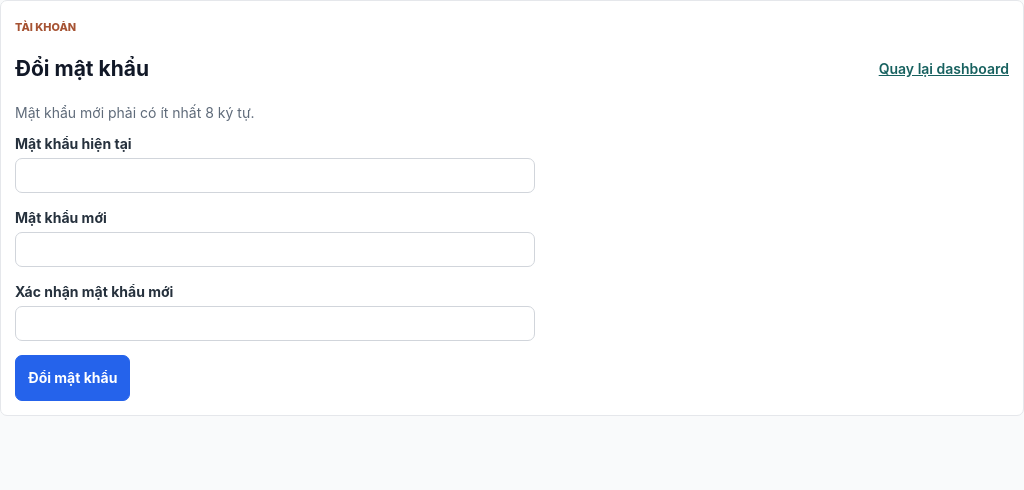
Test case: ChangePasswordPage › shows backend error message
Type "wrong-password" into the password field labelled "Mật khẩu hiện tại".
click(275, 175); type("wrong-password")  # box left=15, top=158, right=535, bottom=193
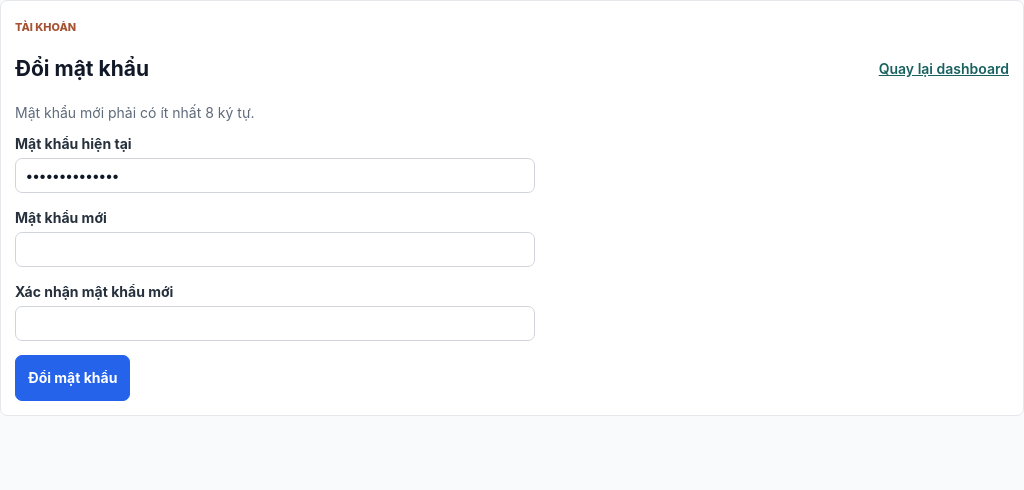
Type "new-password-1" into the password field labelled "Mật khẩu mới".
click(275, 249); type("new-password-1")  # box left=15, top=232, right=535, bottom=267
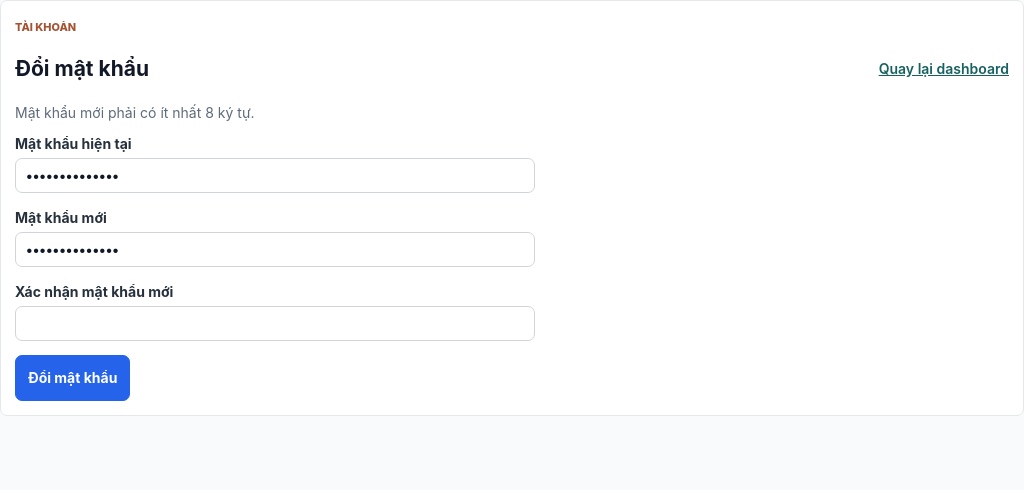
Type "new-password-1" into the password field labelled "Xác nhận mật khẩu mới".
click(275, 323); type("new-password-1")  # box left=15, top=306, right=535, bottom=341
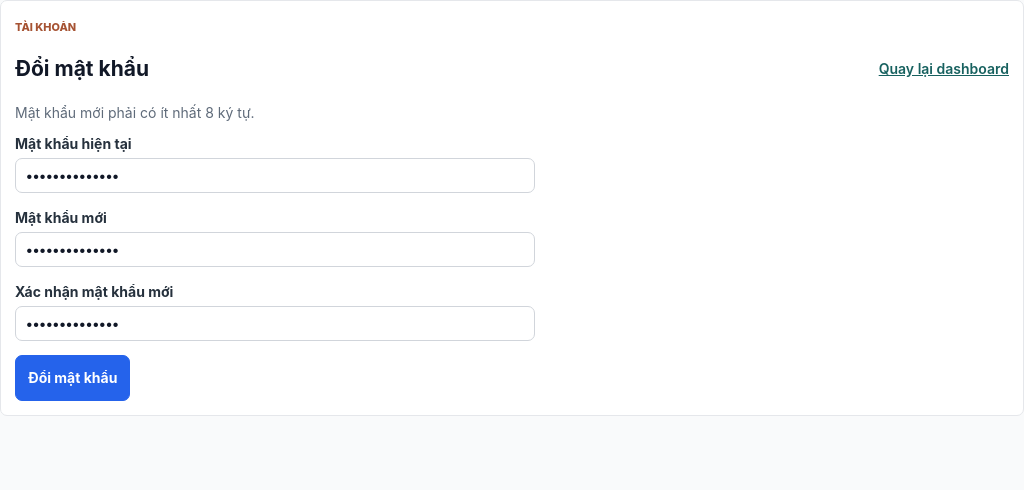
Click the button "Đổi mật khẩu".
click(73, 378)  # box left=15, top=355, right=130, bottom=401
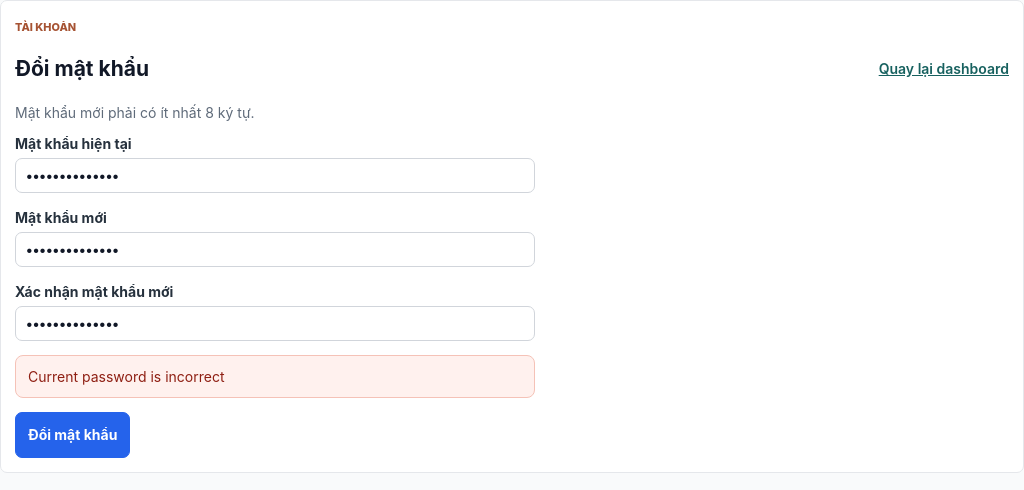
Now the message reads "Current password is incorrect", box left=28, top=368, right=224, bottom=385
